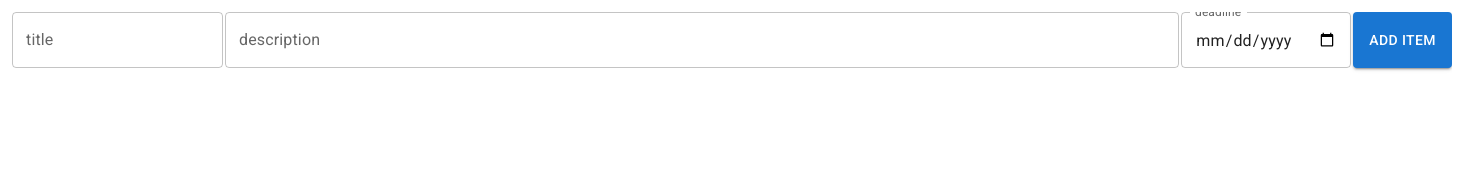
Test: ItemRegistrationForm › button is disabled while mutation is in progress
Type "Test Item" into the field labelled "title" at x=118, y=40, box [12,12,223,68]
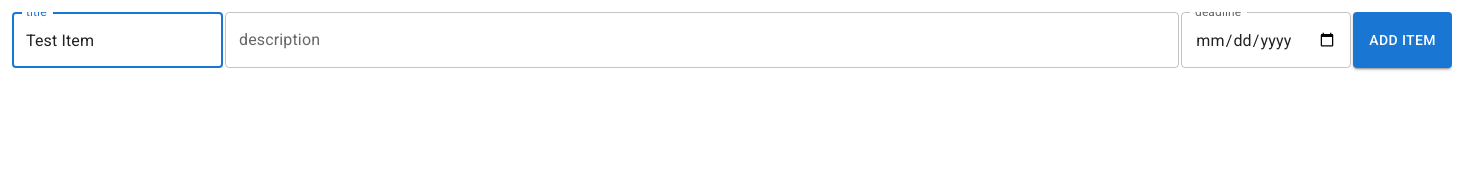
Type "This is a test item description." into the field labelled "description" at x=702, y=40, box [225,12,1179,68]
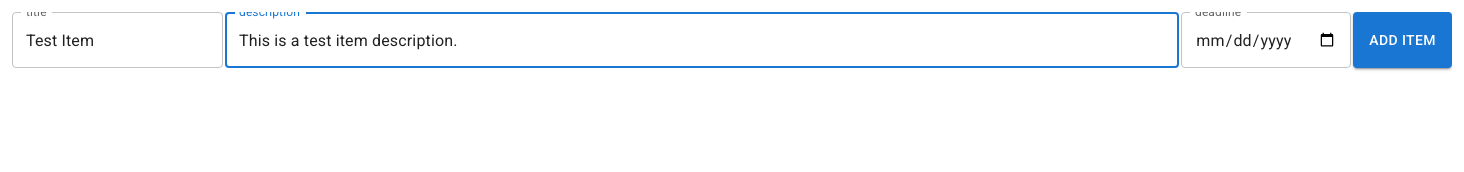
Type "2023-10-01" into the date field labelled "deadline" at x=1266, y=40, box [1181,12,1351,68]
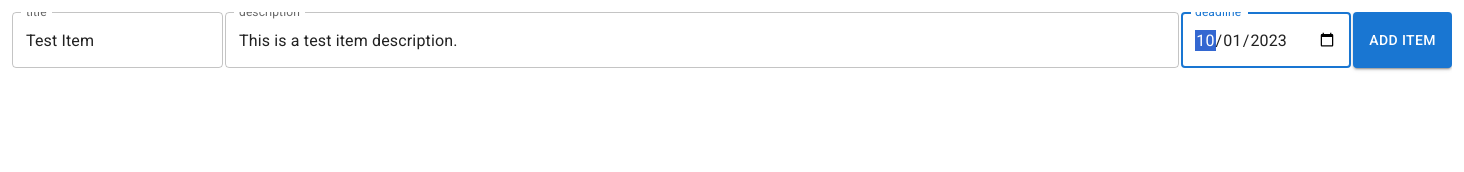
Click the button "Add Item" at x=1403, y=40, box [1353,12,1452,68]
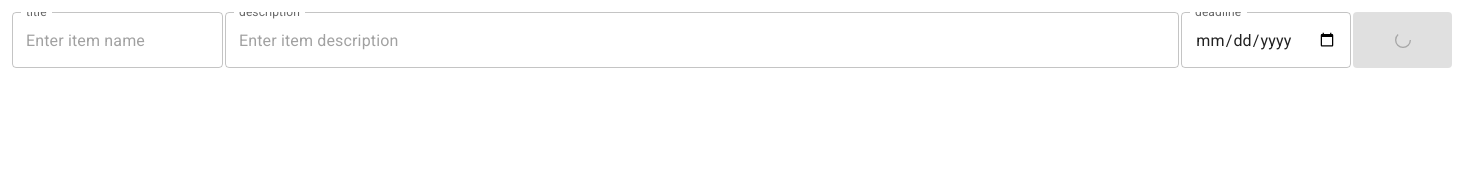
Expected: the button "Add Item" is disabled, [1353,12,1452,68]
